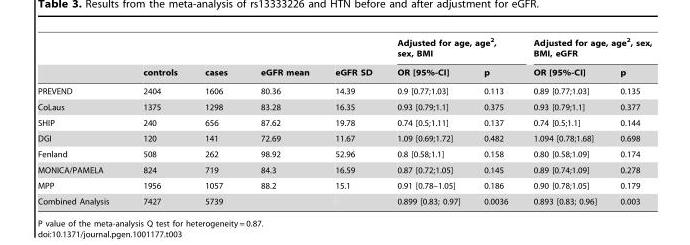table: (37, 36, 651, 205)
table column: (37, 36, 125, 205), (384, 36, 471, 205), (520, 36, 607, 205), (243, 36, 321, 205), (125, 36, 190, 205), (321, 36, 384, 205), (190, 36, 243, 205), (471, 36, 520, 205), (607, 36, 651, 205)
table column header: (37, 36, 651, 81)
table row: (37, 36, 651, 62), (37, 62, 651, 81), (37, 81, 651, 98), (37, 98, 651, 114), (37, 114, 651, 130), (37, 130, 651, 146), (37, 146, 651, 162), (37, 177, 651, 193), (37, 162, 651, 177), (37, 193, 651, 205)
table spanning cell: (384, 36, 520, 62), (243, 36, 321, 81), (520, 36, 651, 62), (125, 36, 190, 81), (321, 36, 384, 81), (190, 36, 243, 81)
